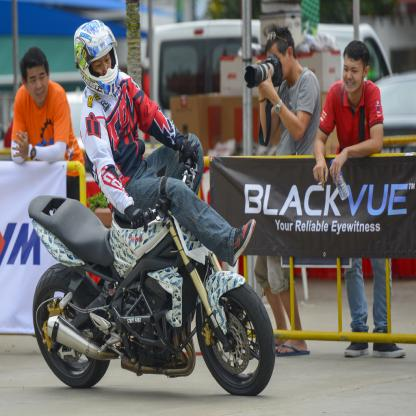Helmet: (71, 19, 116, 94)
